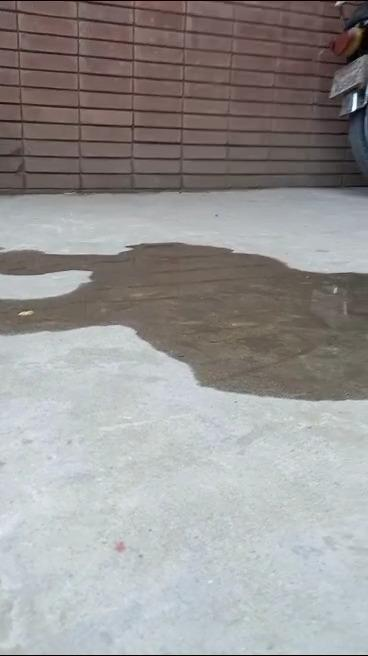water accumulation: (0, 240, 368, 400)
